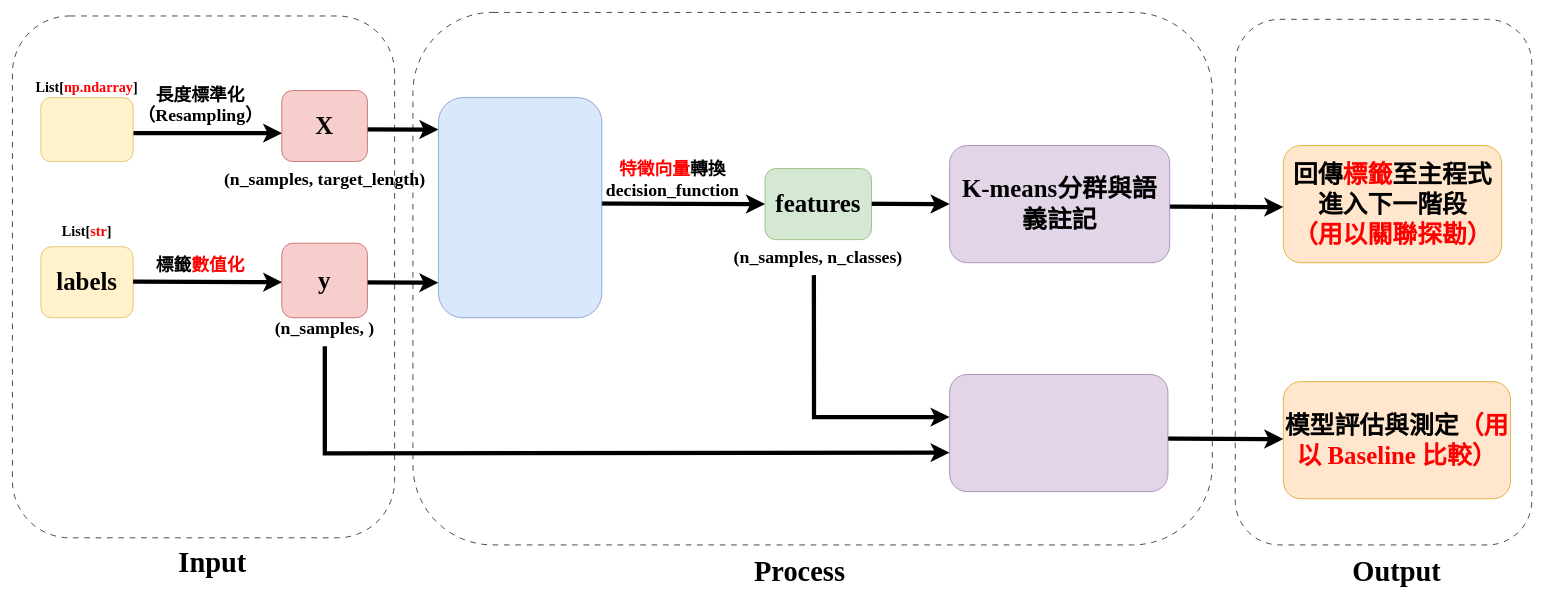
This 1544x604 diagram has some shape labels left out. The centre of each missing label's shape, as x and y in pixels:
"seg" belongs at pixel 86 129.
"Shapelet 學習 與 判別 特徵" belongs at pixel 520 207.
"隨機森林 & 決策樹分類模型預測" belongs at pixel 1058 433.
